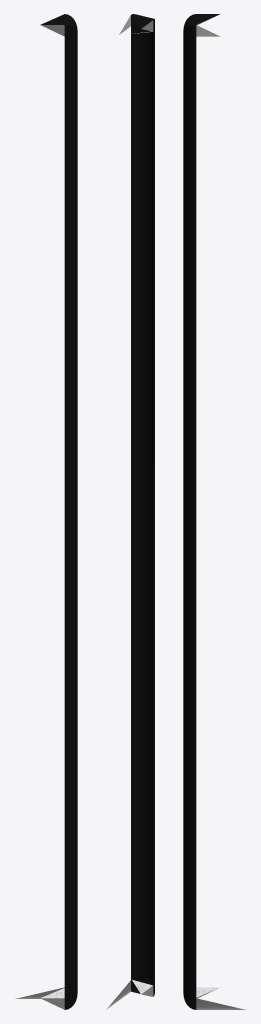
The picture shows the model from 3 angles, left to right: view 1: azimuth 90°, elevation 25°; view 2: azimuth 150°, elevation 25°; view 3: azimuth 270°, elevation 25°; orthographic projection.
Bounding box in the file's own units: 0.0397 × 1.67 × 0.0971.
8 materials, 3 textured.
